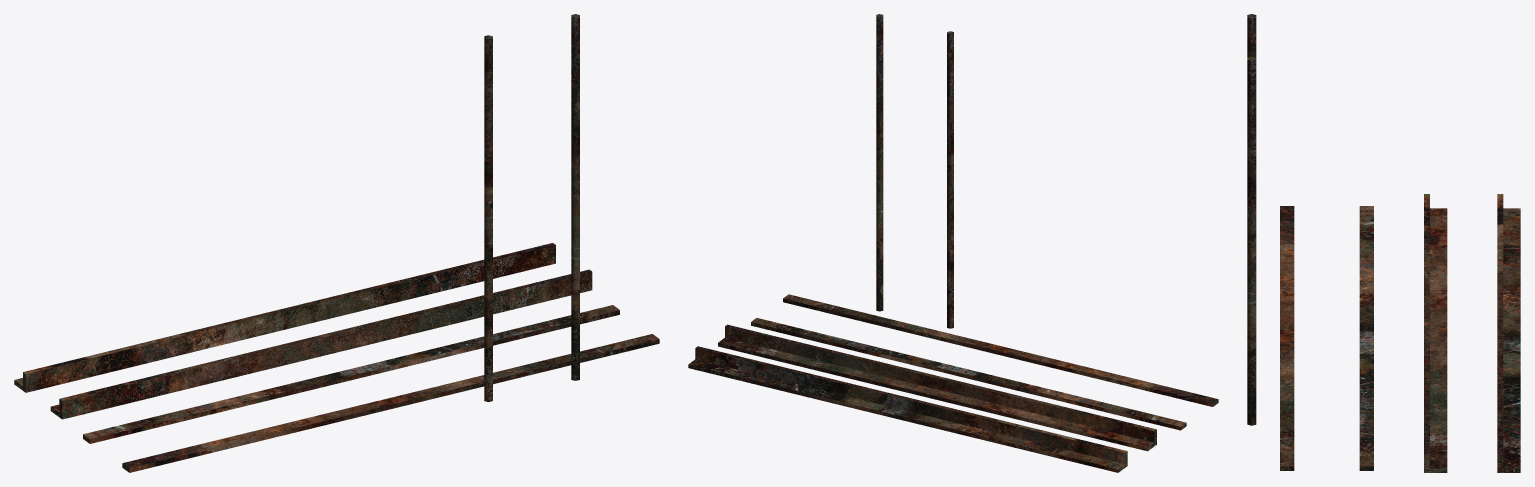
The model's file is Armatura.FBX.
The picture shows the model from 3 angles, left to right: view 1: azimuth 30°, elevation 25°; view 2: azimuth 150°, elevation 25°; view 3: azimuth 270°, elevation 25°; orthographic projection. The views are drawn at different scales.
Visible parts, largest first — view 1: Ugolok_2, Ugolok_1, Armatura_2, Armatura_1, Armatura_3, Armatura_4; view 2: Ugolok_2, Ugolok_1, Armatura_1, Armatura_2, Armatura_3, Armatura_4; view 3: Ugolok_2, Ugolok_1, Armatura_1, Armatura_2, Armatura_3, Armatura_4.
Boxes of the visible parts, box(x1,y1,x2,y2) form: Ugolok_2: box(14, 243, 555, 392); Ugolok_1: box(50, 269, 592, 419); Armatura_2: box(122, 334, 659, 472); Armatura_1: box(83, 305, 619, 443); Armatura_3: box(571, 14, 579, 380); Armatura_4: box(484, 35, 492, 401); Ugolok_2: box(688, 346, 1127, 472); Ugolok_1: box(718, 324, 1156, 451); Armatura_1: box(751, 318, 1186, 430); Armatura_2: box(783, 294, 1218, 406); Armatura_3: box(876, 14, 883, 311); Armatura_4: box(947, 31, 953, 328); Ugolok_2: box(1497, 194, 1520, 472); Ugolok_1: box(1424, 194, 1447, 472); Armatura_1: box(1359, 206, 1373, 470); Armatura_2: box(1280, 206, 1294, 470); Armatura_3: box(1247, 56, 1256, 425); Armatura_4: box(1247, 14, 1256, 57).
Bounding box in the file's own units: 8.4 × 5.45 × 3.7.
1 material, 1 textured.
